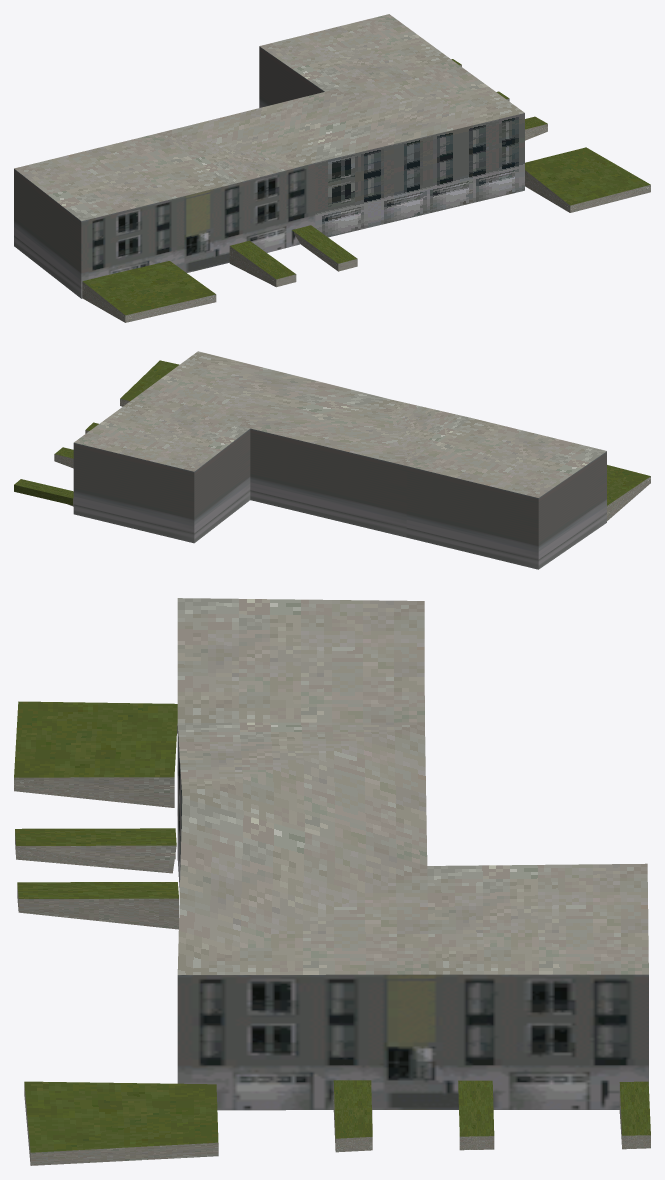
File: lodoffven01_law.obj
The picture shows the model from 3 angles, top to bottom: view 1: azimuth 30°, elevation 25°; view 2: azimuth 150°, elevation 25°; view 3: azimuth 270°, elevation 25°; orthographic projection. The views are drawn at different scales.
Parts seen in each view (by area): view 1: LODoffven01_law; view 2: LODoffven01_law; view 3: LODoffven01_law.
Boxes of the visible parts, bbox=[...] form: LODoffven01_law: bbox=[14, 14, 650, 322]; LODoffven01_law: bbox=[14, 351, 650, 569]; LODoffven01_law: bbox=[14, 598, 650, 1165].
Size of the model in its own units: 57.02 by 8.1 by 34.14.
Materials: 4 (4 with a texture image).
